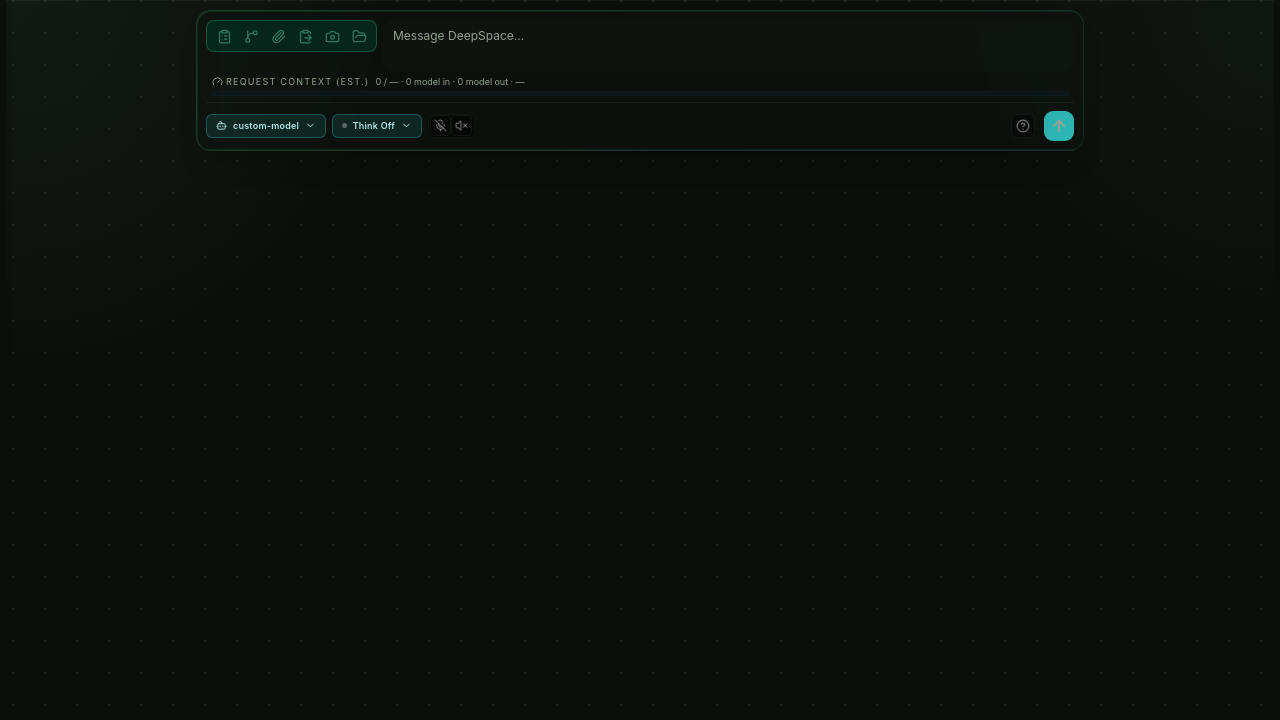
Test: custom provider reasoning options › shows only Off when the endpoint does not declare reasoning support
The width and height of the screenshot is (1280, 720).
Click the button with aria-label "Choose reasoning effort": (377, 126) [332,114,422,138]
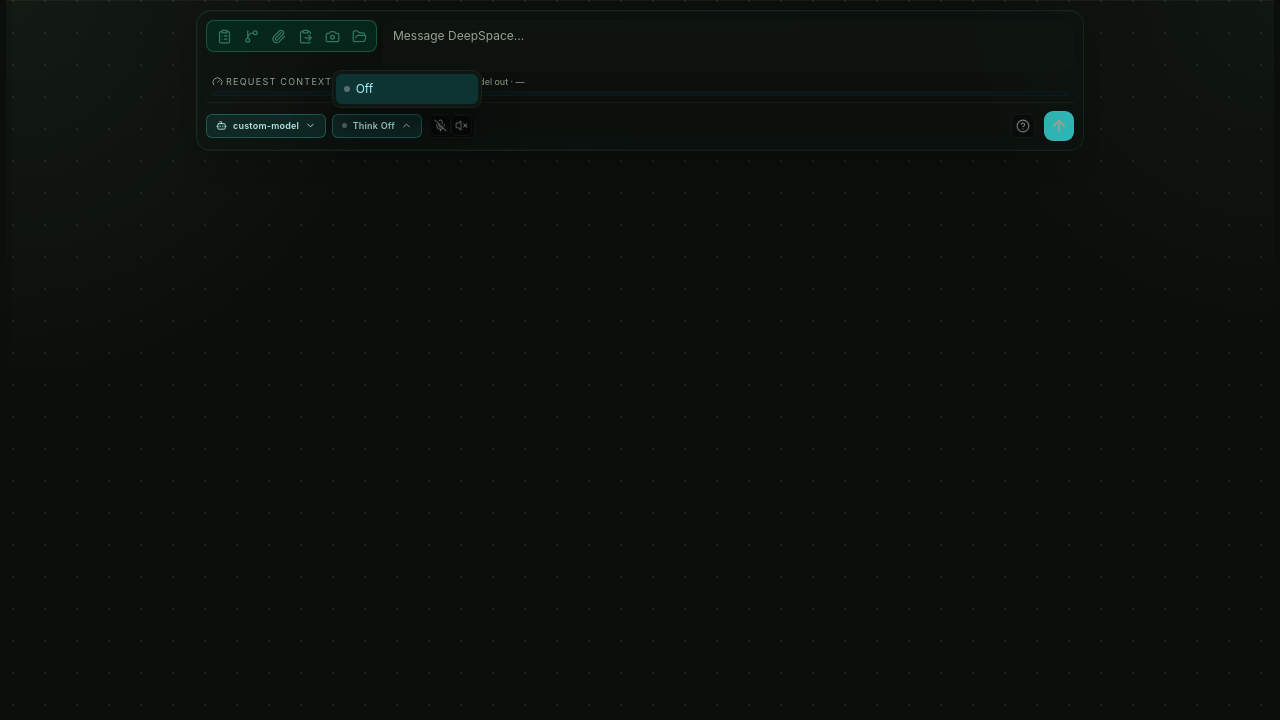
Expected: the button "Off" is shown, [336,74,478,104]
